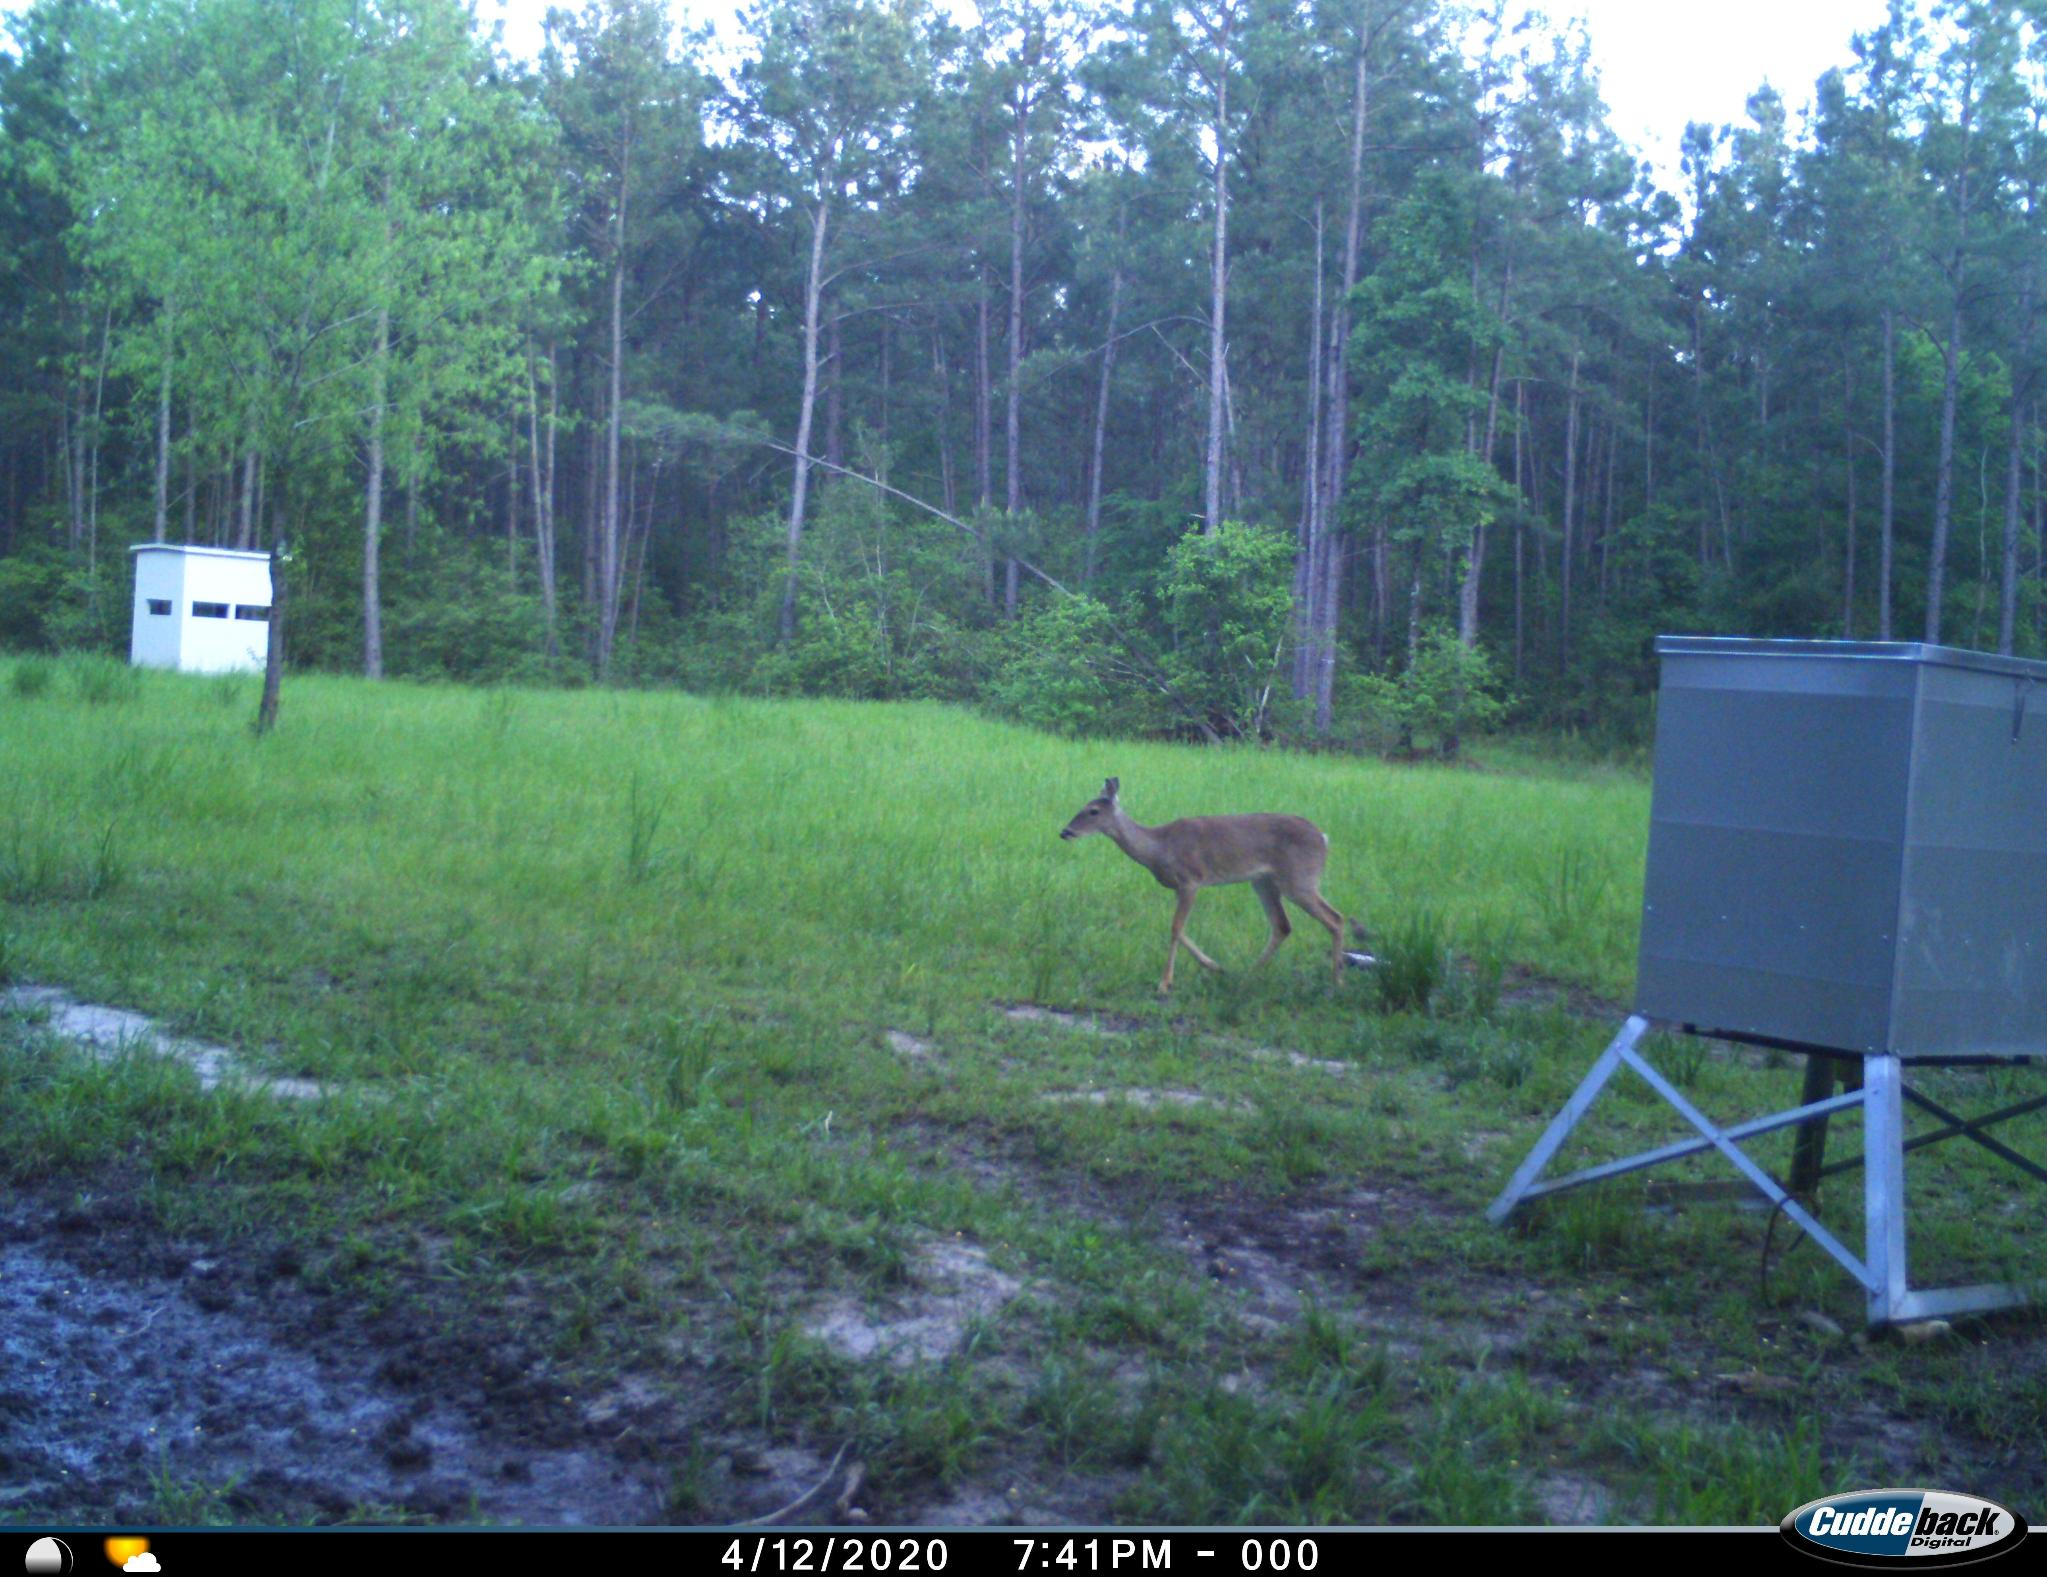Deer: (1047, 767, 1386, 1009)
